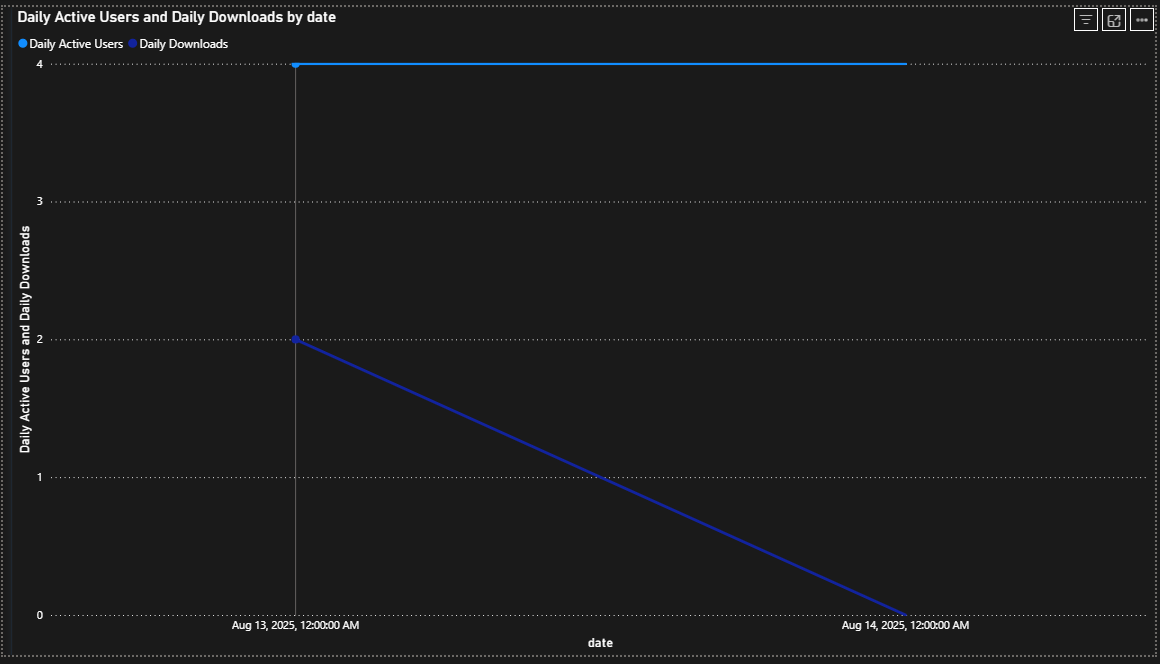

The dashboard page shown, as its layout file describes it:
{"tool":"powerbi","page":{"name":"Page 5","canvas":[1280,720],"ordinal":4},"visuals":[{"type":"lineChart","fields":{"Category":["daily_stats.date"],"Y":["daily_stats.Daily Active Users","daily_stats.Daily Downloads"]},"box":[10,0,1270,720],"z":0}]}

Visuals, with their boxes in screenshot pixels (x1, y1, x2, y2), scaled from the page's 1280x720 canvas onto the 1160x664 screenshot:
lineChart - daily_stats.date x daily_stats.Daily Active Users: 9:0:1159:663
